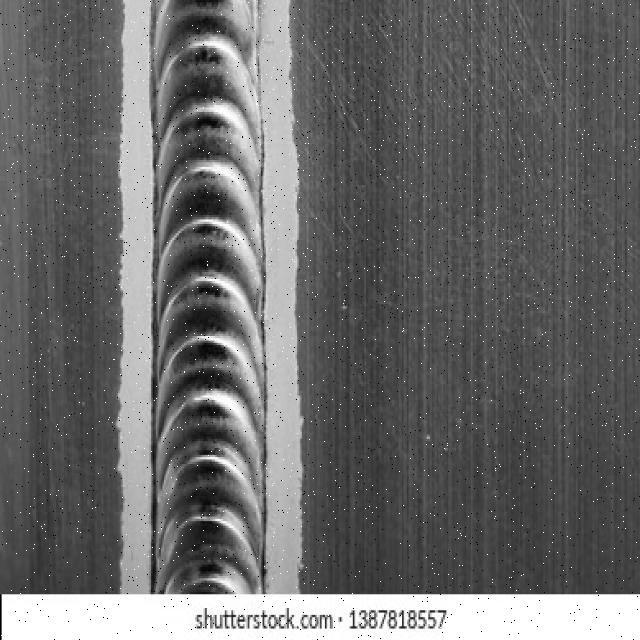Good Welding: (155, 4, 264, 592)
